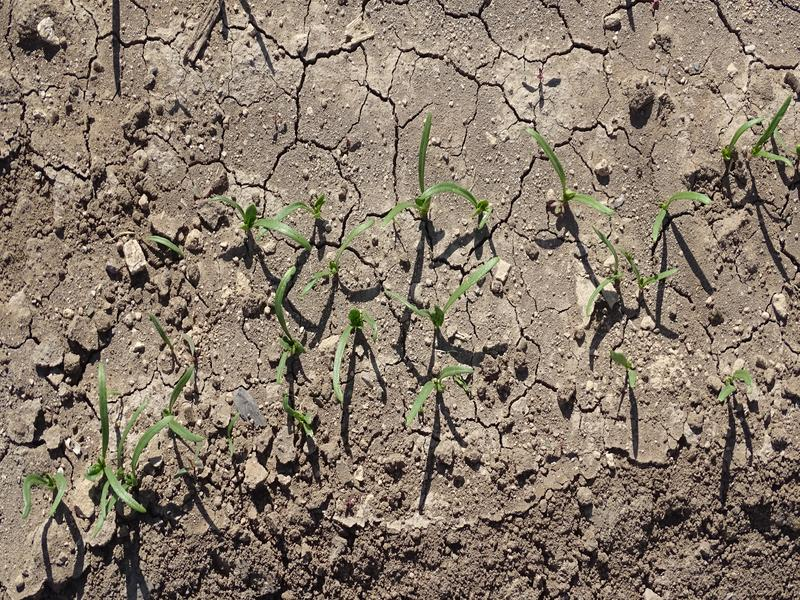Espinaca: (212, 197, 379, 439), (29, 372, 204, 528), (378, 133, 475, 228), (381, 261, 488, 337), (528, 128, 612, 213), (723, 93, 794, 173), (564, 227, 626, 311), (405, 362, 485, 426), (644, 187, 705, 245), (711, 358, 755, 408), (627, 254, 678, 297), (147, 230, 183, 260), (607, 352, 639, 385)
